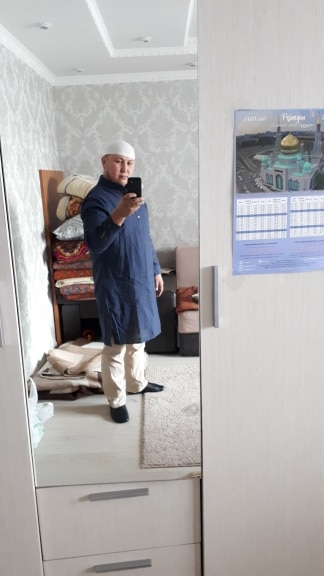shirts: (87, 179, 164, 340)
